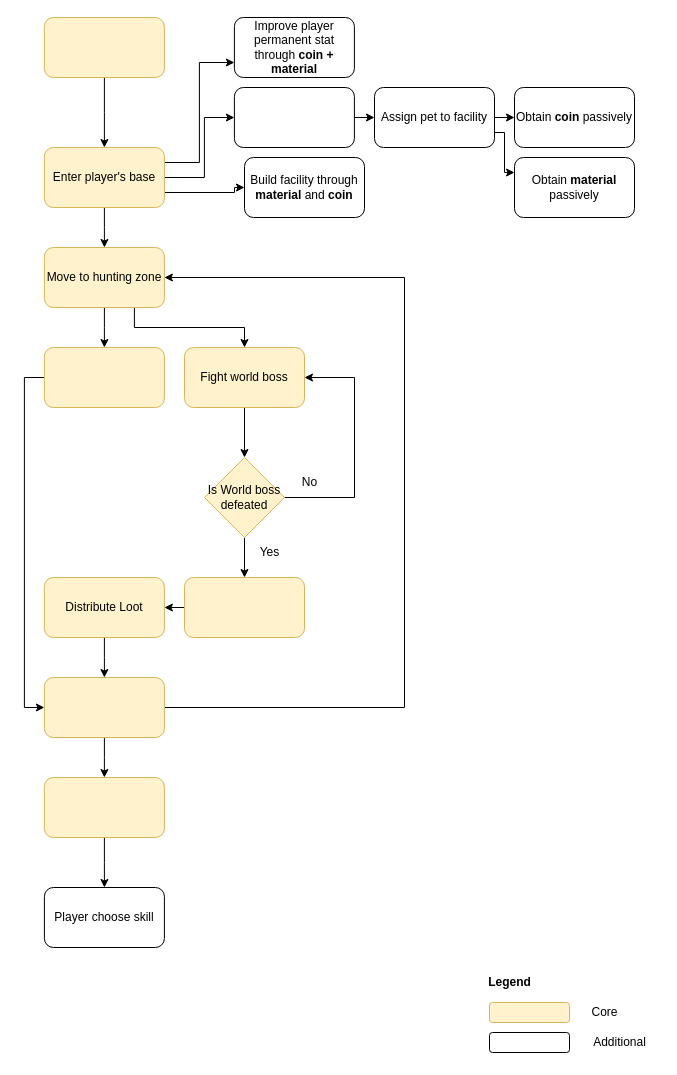
Image size: 677x1075. Some labels were removed from this diagram. The box of each missing label's shape, as (x1, y1, x2, y2) in pixels:
Buy pet randomly using coin: (233, 86, 354, 148)
Enter game: (43, 16, 164, 78)
Kill zombie: (43, 346, 164, 408)
Level Up: (43, 776, 164, 838)
Measure contribution: (184, 576, 304, 638)
Obtain loot ( exp, material, coin, token ): (43, 676, 164, 738)
